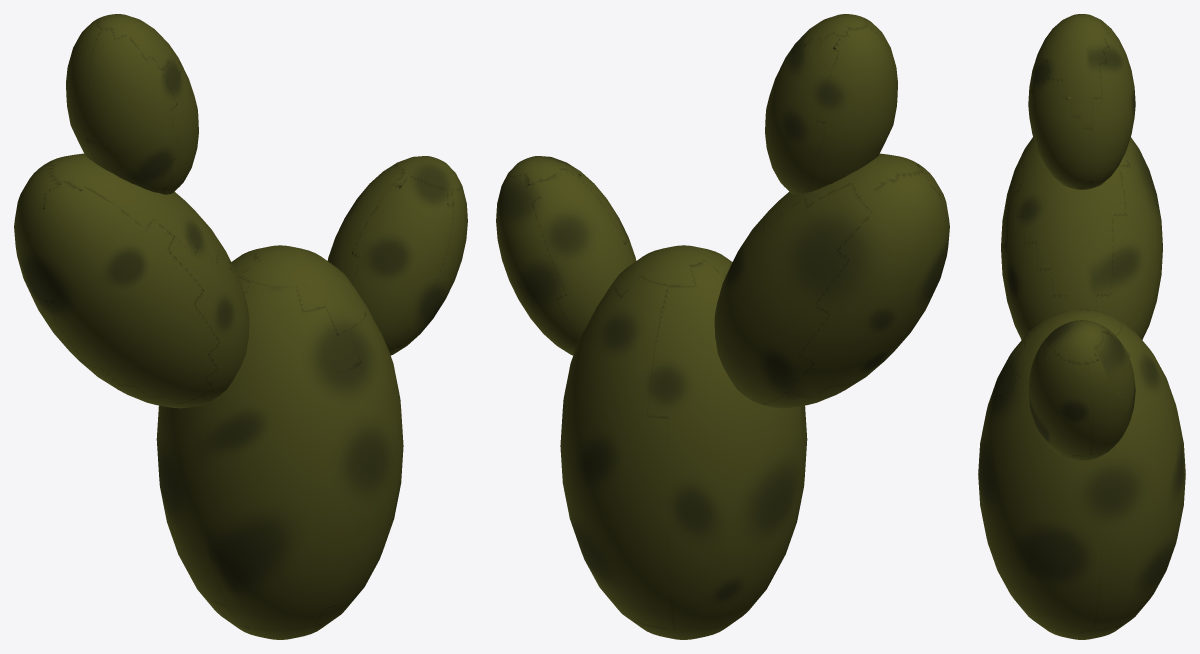
File: Cactus_Dead.fbx
The picture shows the model from 3 angles, left to right: view 1: azimuth 30°, elevation 25°; view 2: azimuth 150°, elevation 25°; view 3: azimuth 270°, elevation 25°; orthographic projection. The views are drawn at different scales.
Parts seen in each view (by area): view 1: Cactus.002; view 2: Cactus.002; view 3: Cactus.002.
Boxes of the visible parts, bbox=[...] form: Cactus.002: bbox=[14, 14, 467, 639]; Cactus.002: bbox=[496, 14, 949, 639]; Cactus.002: bbox=[978, 14, 1185, 639].
Bounding box in the file's own units: 20.56 × 29.54 × 10.1.
